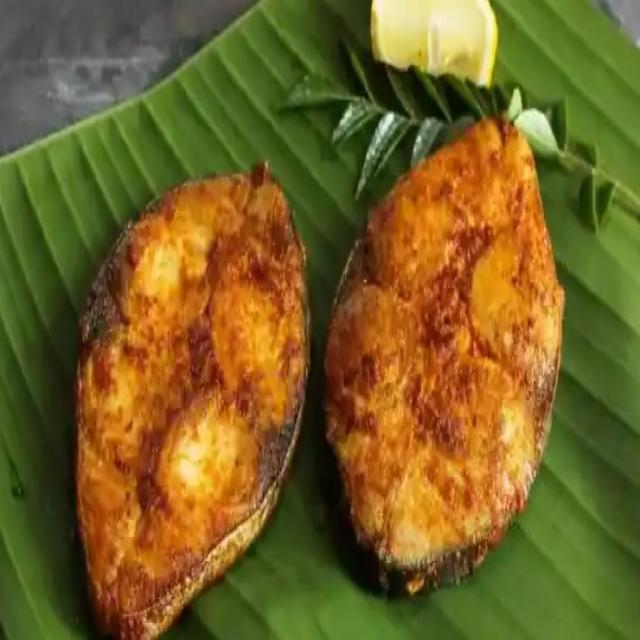FISH FRY: (73, 111, 640, 640)
